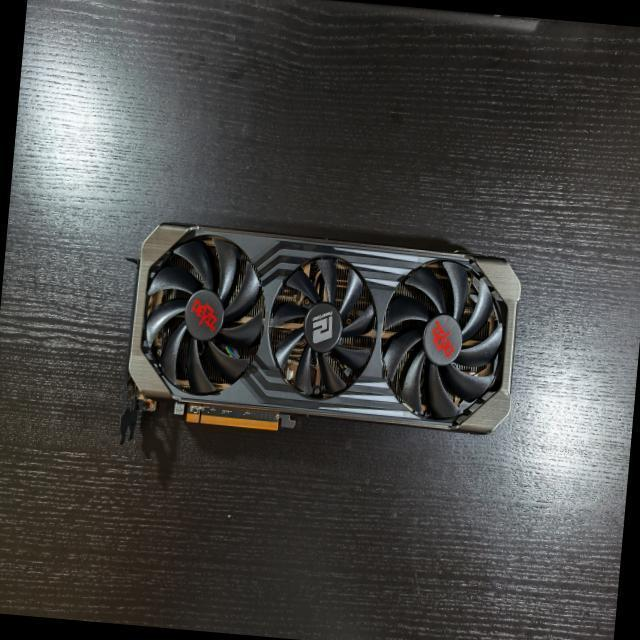GPU: (125, 213, 524, 450)
